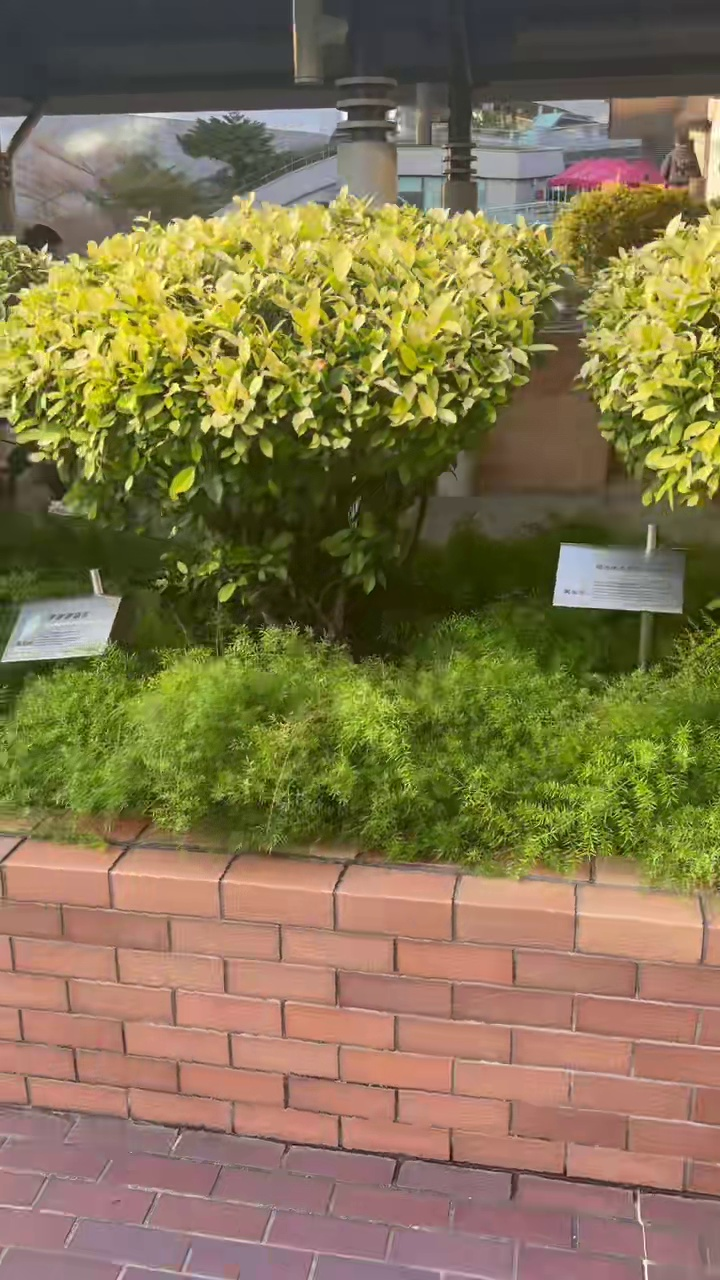Golden-leaves Fig: (0, 370, 719, 1279), (0, 194, 558, 634)
